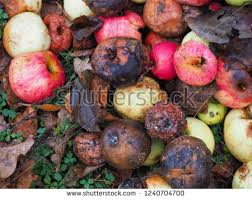damaged_apple: (9, 51, 67, 104), (92, 42, 150, 86), (160, 137, 212, 183), (43, 13, 100, 54), (101, 123, 152, 168), (172, 39, 218, 88), (215, 56, 252, 106), (144, 100, 189, 139), (93, 8, 142, 43), (146, 41, 186, 82), (5, 16, 50, 52), (142, 3, 186, 36), (72, 126, 106, 168)
